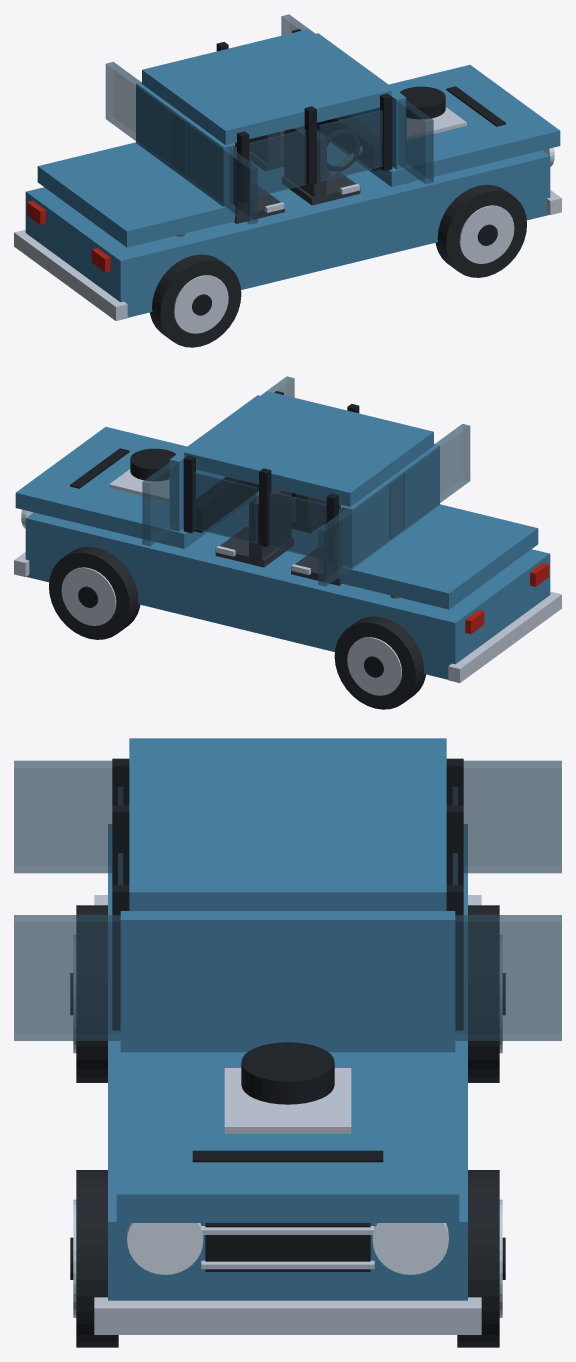
Rendered from generic-1970s-sedan.glb.
The picture shows the model from 3 angles, top to bottom: view 1: azimuth 30°, elevation 25°; view 2: azimuth 150°, elevation 25°; view 3: azimuth 270°, elevation 25°; orthographic projection. The views are drawn at different scales.
Visible parts, largest first — view 1: Main unibody, Roof, Trunk lid, Hood, Rear bulkhead, Rear window, Rear window.001, Tyre, Tyre.002, Front door window, Rear door window, Rear bumper (+17 smaller); view 2: Main unibody, Roof, Trunk lid, Hood, Rear bulkhead, Rear window.001, Rear window, Tyre.001, Tyre.003, Front door window.001, Rear door window.001, Rear bumper (+16 smaller); view 3: Roof, Hood, Front bulkhead, Main unibody, Front bumper, Windshield, Windshield.001, Rear window, Rear window.001, Front grille, Tyre, Tyre.001 (+15 smaller).
Boxes of the visible parts, x1=… form: Main unibody: x1=25, y1=133, x2=550, y2=317; Roof: x1=142, y1=29, x2=391, y2=144; Trunk lid: x1=37, y1=142, x2=234, y2=247; Hood: x1=317, y1=65, x2=560, y2=186; Rear bulkhead: x1=136, y1=82, x2=233, y2=223; Rear window: x1=171, y1=111, x2=257, y2=224; Rear window.001: x1=105, y1=62, x2=186, y2=176; Tyre: x1=150, y1=254, x2=241, y2=347; Tyre.002: x1=435, y1=184, x2=526, y2=277; Front door window: x1=318, y1=110, x2=382, y2=181; Rear door window: x1=249, y1=129, x2=306, y2=197; Rear bumper: x1=14, y1=229, x2=127, y2=320; Main unibody: x1=25, y1=495, x2=550, y2=679; Roof: x1=184, y1=391, x2=433, y2=506; Trunk lid: x1=341, y1=504, x2=538, y2=609; Hood: x1=15, y1=427, x2=258, y2=548; Rear bulkhead: x1=342, y1=444, x2=439, y2=585; Rear window.001: x1=318, y1=473, x2=404, y2=586; Rear window: x1=389, y1=424, x2=470, y2=538; Tyre.001: x1=334, y1=616, x2=425, y2=709; Tyre.003: x1=49, y1=546, x2=140, y2=639; Front door window.001: x1=193, y1=472, x2=257, y2=543; Rear door window.001: x1=269, y1=491, x2=326, y2=559; Rear bumper: x1=448, y1=591, x2=561, y2=682; Roof: x1=129, y1=738, x2=446, y2=910; Hood: x1=116, y1=1038, x2=459, y2=1222; Front bulkhead: x1=120, y1=911, x2=455, y2=1052; Main unibody: x1=108, y1=824, x2=467, y2=1300; Front bumper: x1=94, y1=1297, x2=481, y2=1334; Windshield: x1=14, y1=915, x2=120, y2=1040; Windshield.001: x1=455, y1=915, x2=561, y2=1040; Rear window: x1=14, y1=760, x2=112, y2=873; Rear window.001: x1=463, y1=760, x2=561, y2=873; Front grille: x1=205, y1=1223, x2=370, y2=1271; Tyre: x1=76, y1=905, x2=107, y2=1082; Tyre.001: x1=468, y1=905, x2=499, y2=1082.
Size of what is drawn, in the model's own units: 4.67 by 1.97 by 2.59.
